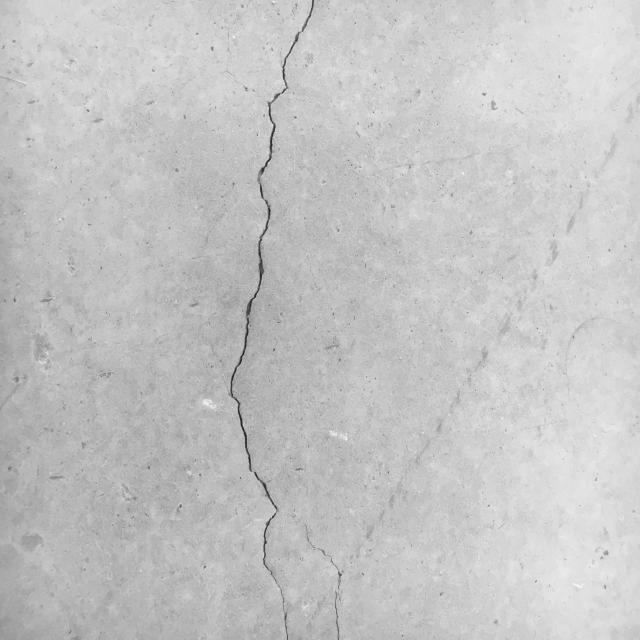SurfaceCrack: (341, 1, 640, 640), (195, 0, 359, 640)
